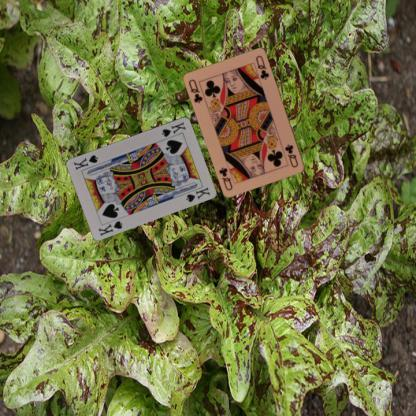Ks: (96, 218, 124, 237), (160, 119, 187, 138)
Qc: (282, 142, 300, 169), (186, 77, 204, 104)
